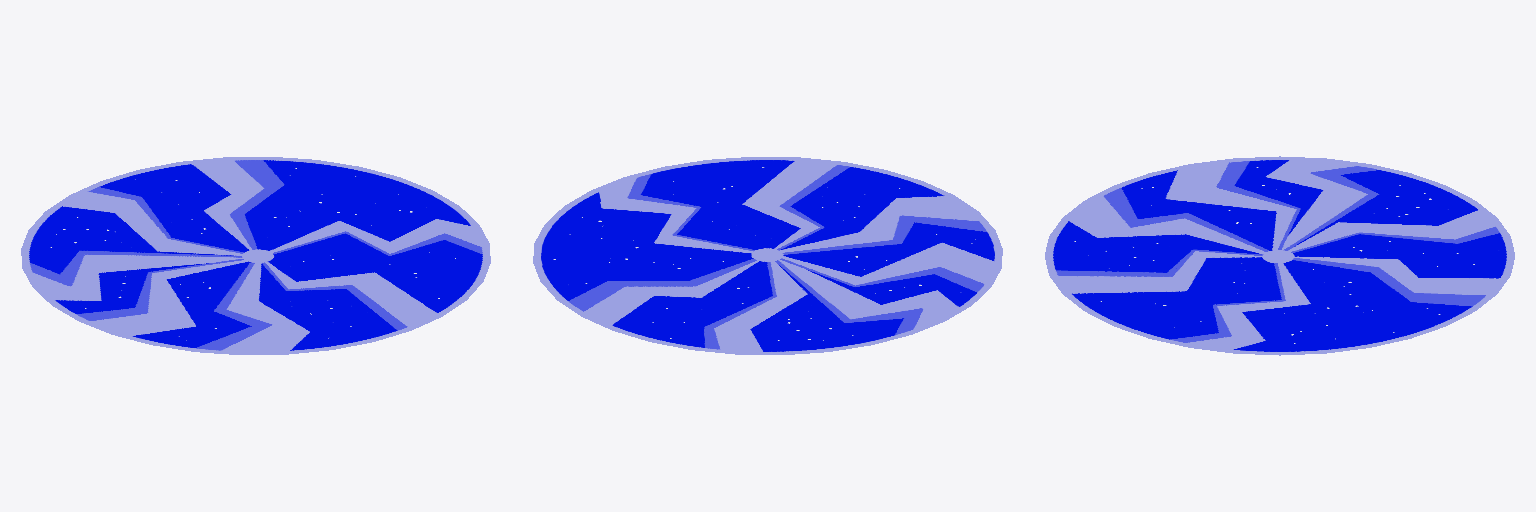
The picture shows the model from 3 angles: view 1: azimuth 30°, elevation 25°; view 2: azimuth 150°, elevation 25°; view 3: azimuth 270°, elevation 25°; orthographic projection.
Parts seen in each view (by area): view 1: Circle; view 2: Circle; view 3: Circle.
Part boxes in pixels (bbox=[...]): Circle: bbox=[21, 157, 490, 354]; Circle: bbox=[533, 157, 1002, 354]; Circle: bbox=[1045, 156, 1514, 355].
Bounding box in the file's own units: 10 × 0 × 10.
Materials: 1 (1 with a texture image).